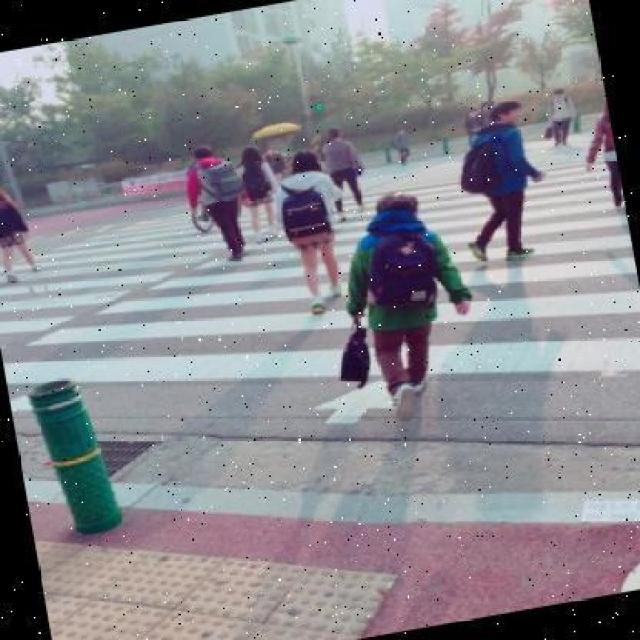Person: (329, 184, 493, 428), (443, 94, 557, 268), (272, 144, 360, 316), (179, 142, 247, 264), (232, 143, 282, 245), (318, 126, 369, 219), (0, 180, 43, 286), (536, 82, 586, 148)
